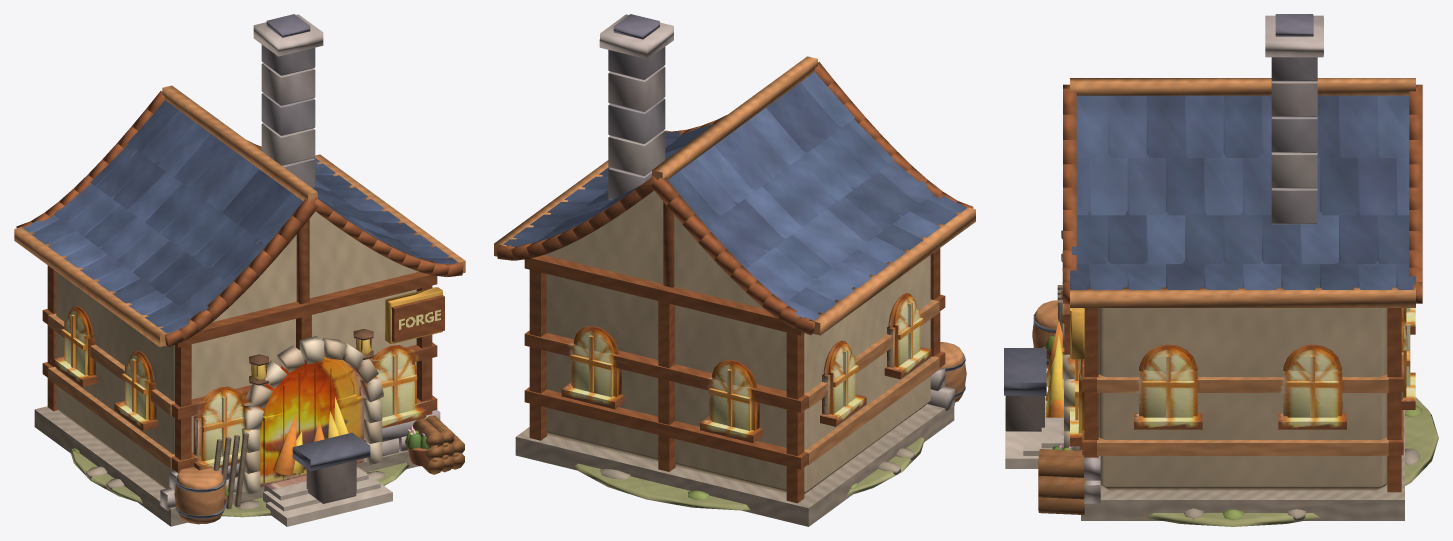
File: bld_village_forge.glb
3 views of the same model, side by side, from view 1: azimuth 30°, elevation 25°; view 2: azimuth 150°, elevation 25°; view 3: azimuth 270°, elevation 25° (orthographic). The views are drawn at different scales.
Visible parts, largest first — view 1: Body; view 2: Body; view 3: Body.
Boxes of the visible parts, x1,y1,x2,y2 form: Body: (14,14,465,526); Body: (494,14,975,526); Body: (1004,14,1438,526).
Bounding box in the file's own units: 4.39 × 5.31 × 4.55.
Materials: 1 (1 with a texture image).
